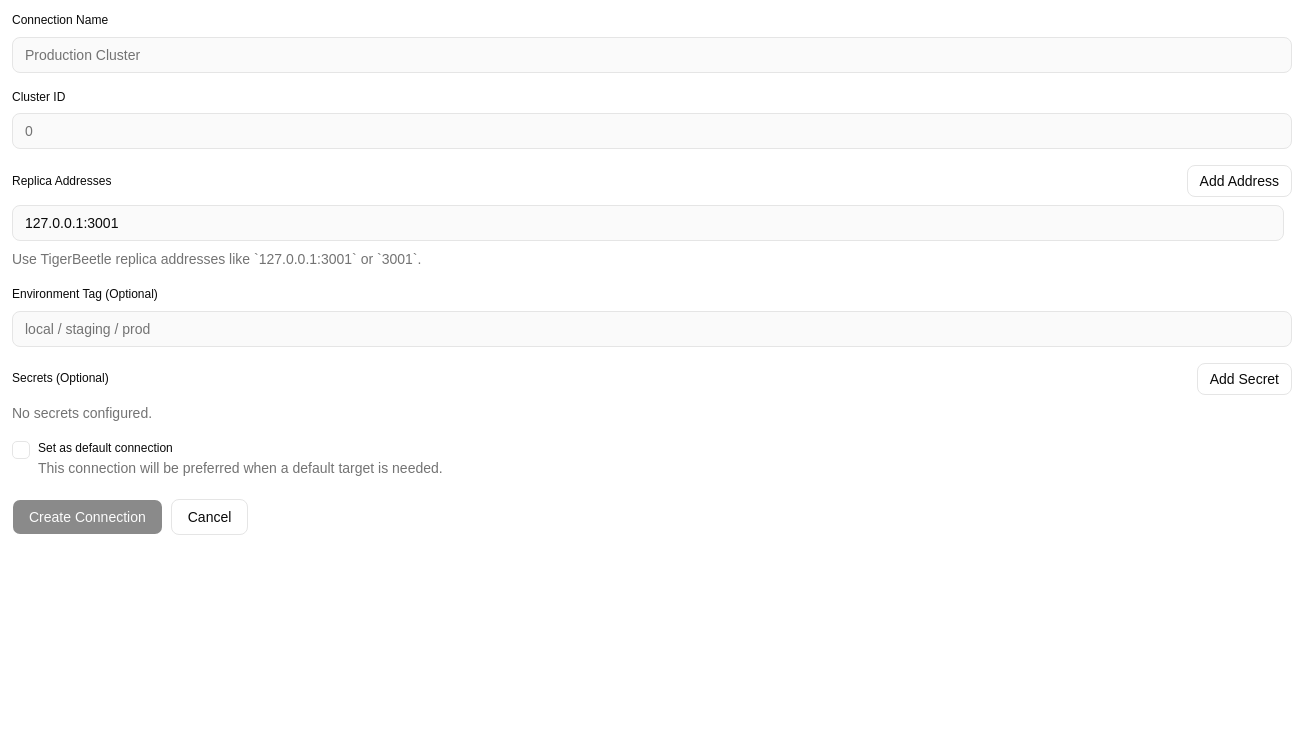
ConnectionForm › supports adding and removing replica addresses with validation feedback intact
Click the button "Add Address" at (1239, 181), box [1187,165,1292,197]
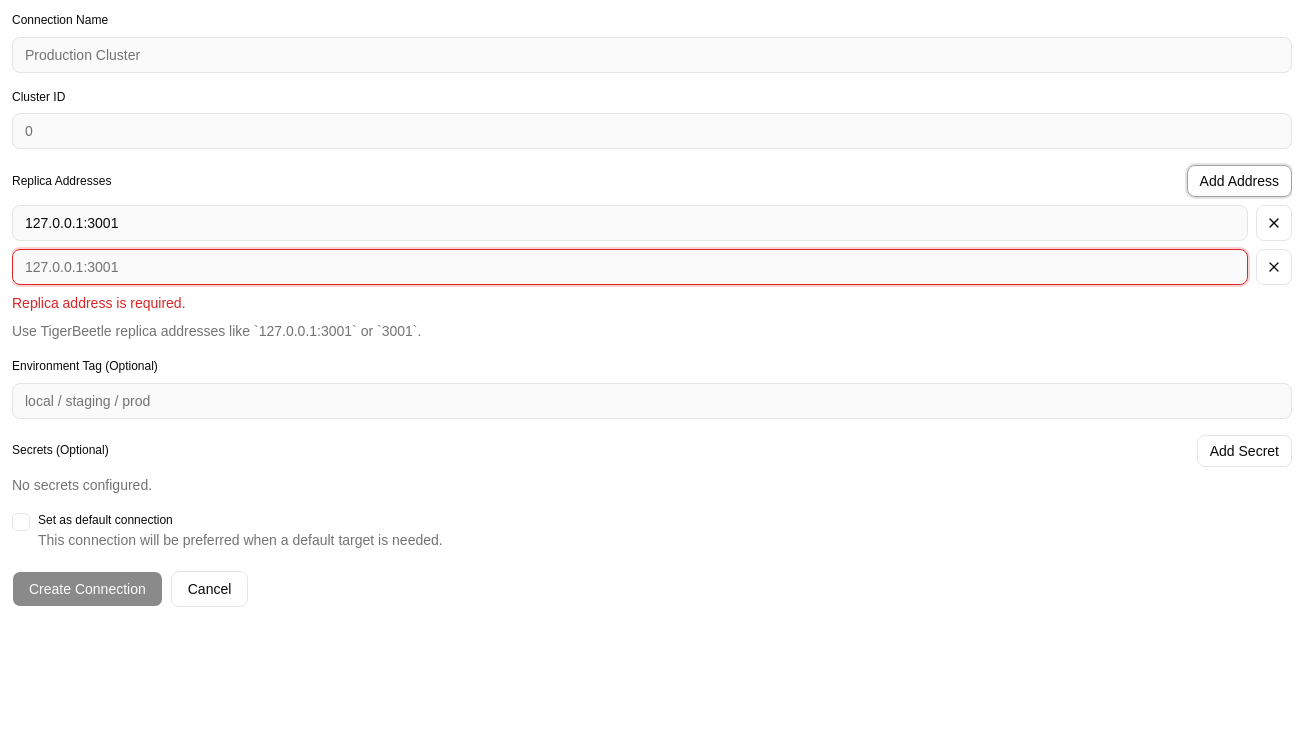
Type "host::bad" into the field with placeholder "127.0.0.1:3001" at (630, 267), box [12,249,1248,285]
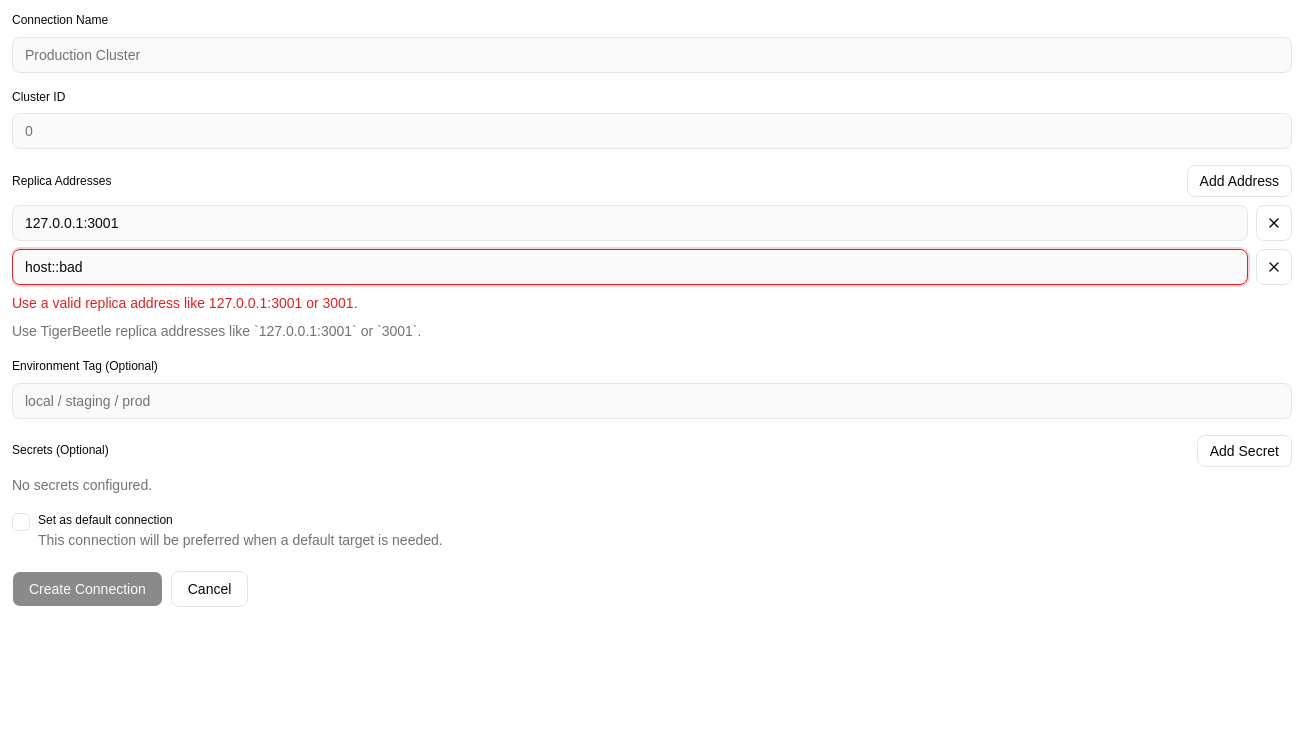
Click the 1st button named "Remove" at (1274, 223), box [1256,205,1292,241]
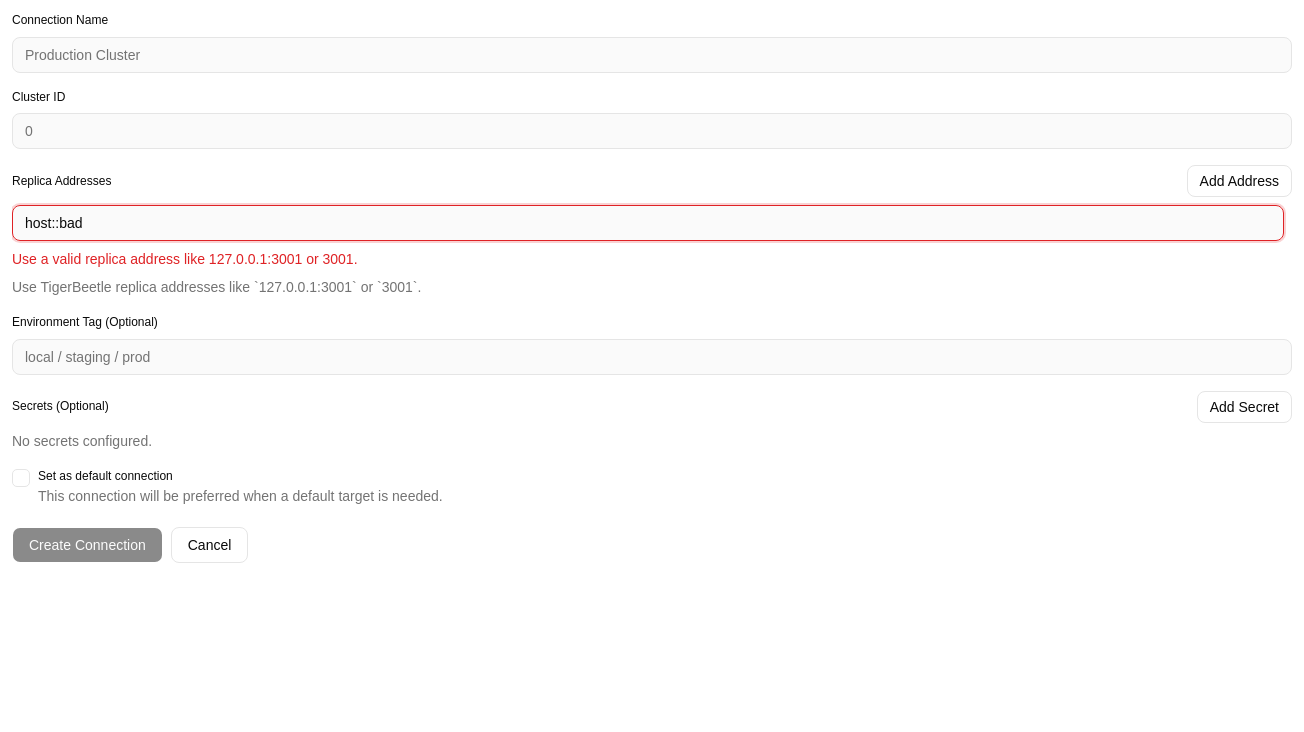
Check: the number of fields with placeholder "127.0.0.1:3001" is 1, box [12,205,1284,241]
